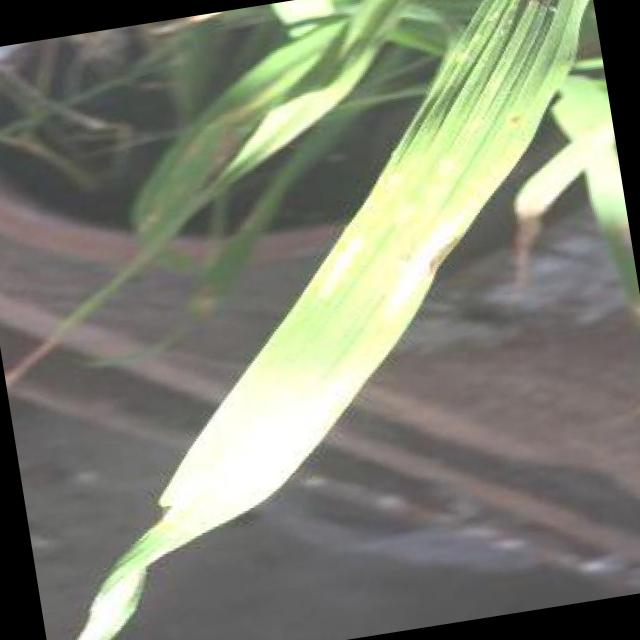Rice_Blast: (356, 186, 492, 316)
